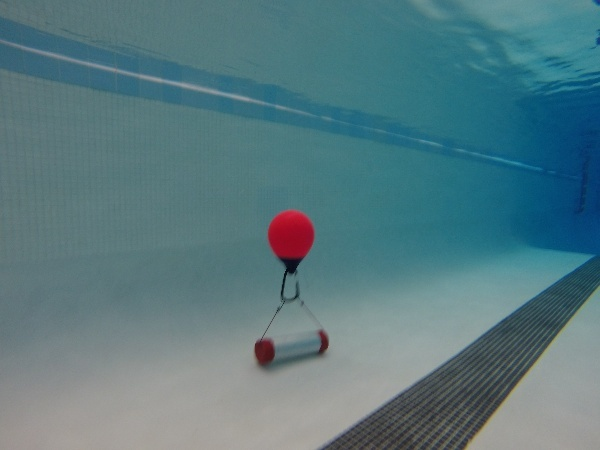buoy_red: (264, 205, 319, 278)
